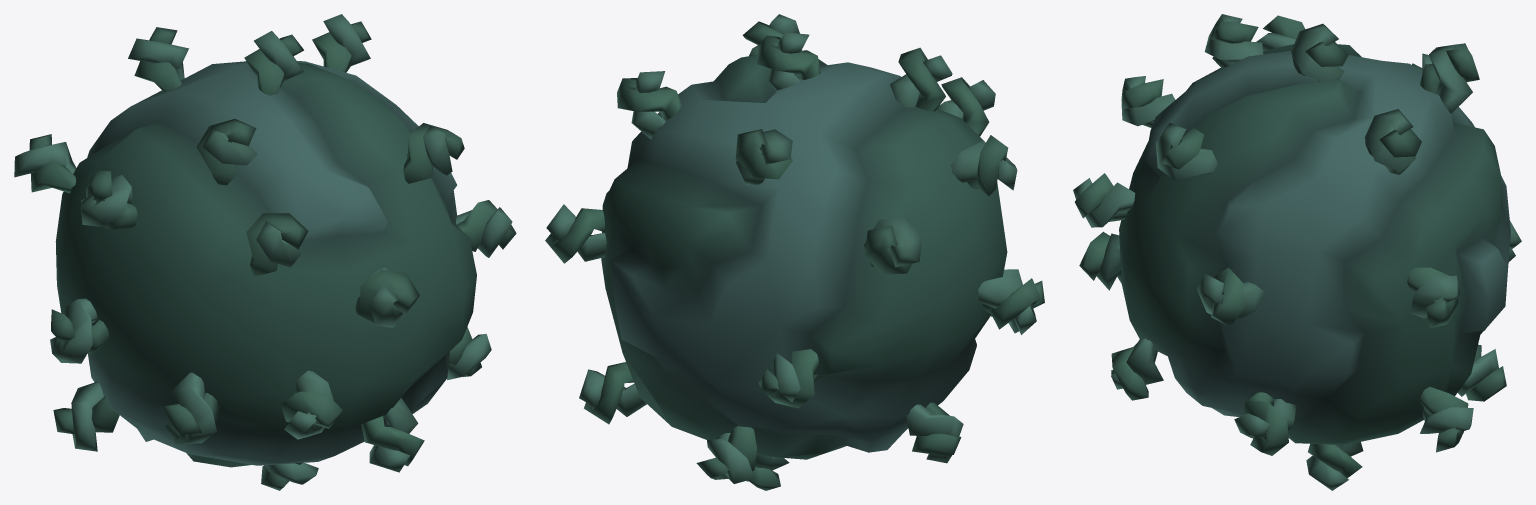
Rendered from microscopic-viruses-virus_v1.fbx.
The picture shows the model from 3 angles, left to right: view 1: azimuth 30°, elevation 25°; view 2: azimuth 150°, elevation 25°; view 3: azimuth 270°, elevation 25°; orthographic projection. The views are drawn at different scales.
Visible parts, largest first — view 1: Virus; view 2: Virus; view 3: Virus.
Part boxes in pixels (<box>): Virus: <box>14,14,516,490</box>; Virus: <box>545,14,1044,490</box>; Virus: <box>1073,14,1521,490</box>.
Size of the model in its own units: 0.0956 by 0.1 by 0.0906.
